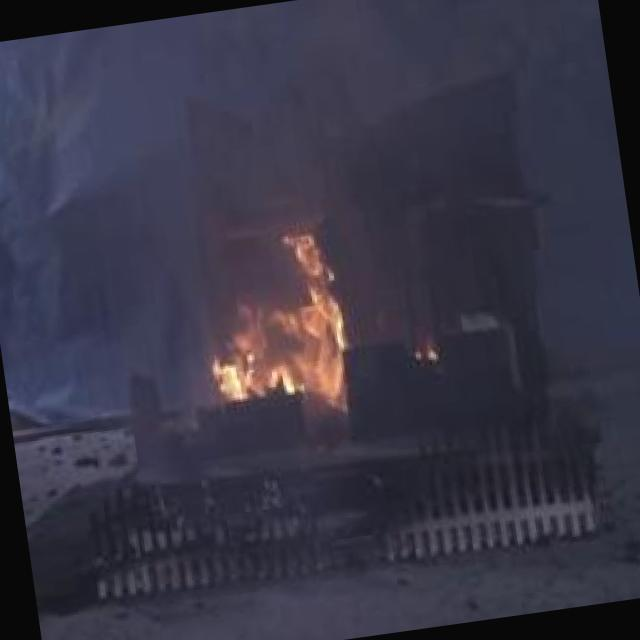fire: (198, 226, 362, 424)
